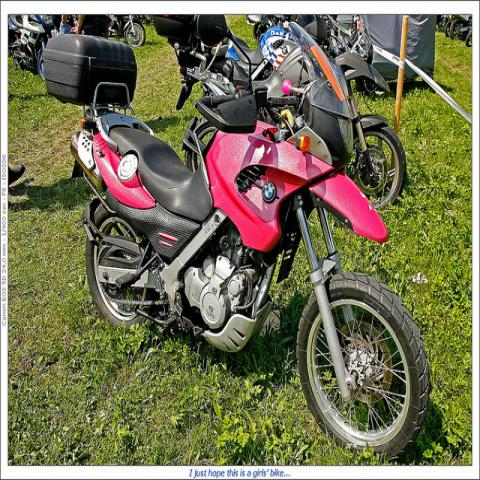motorcycle: (75, 25, 425, 455), (311, 21, 409, 206), (6, 17, 56, 81), (83, 14, 146, 48)
